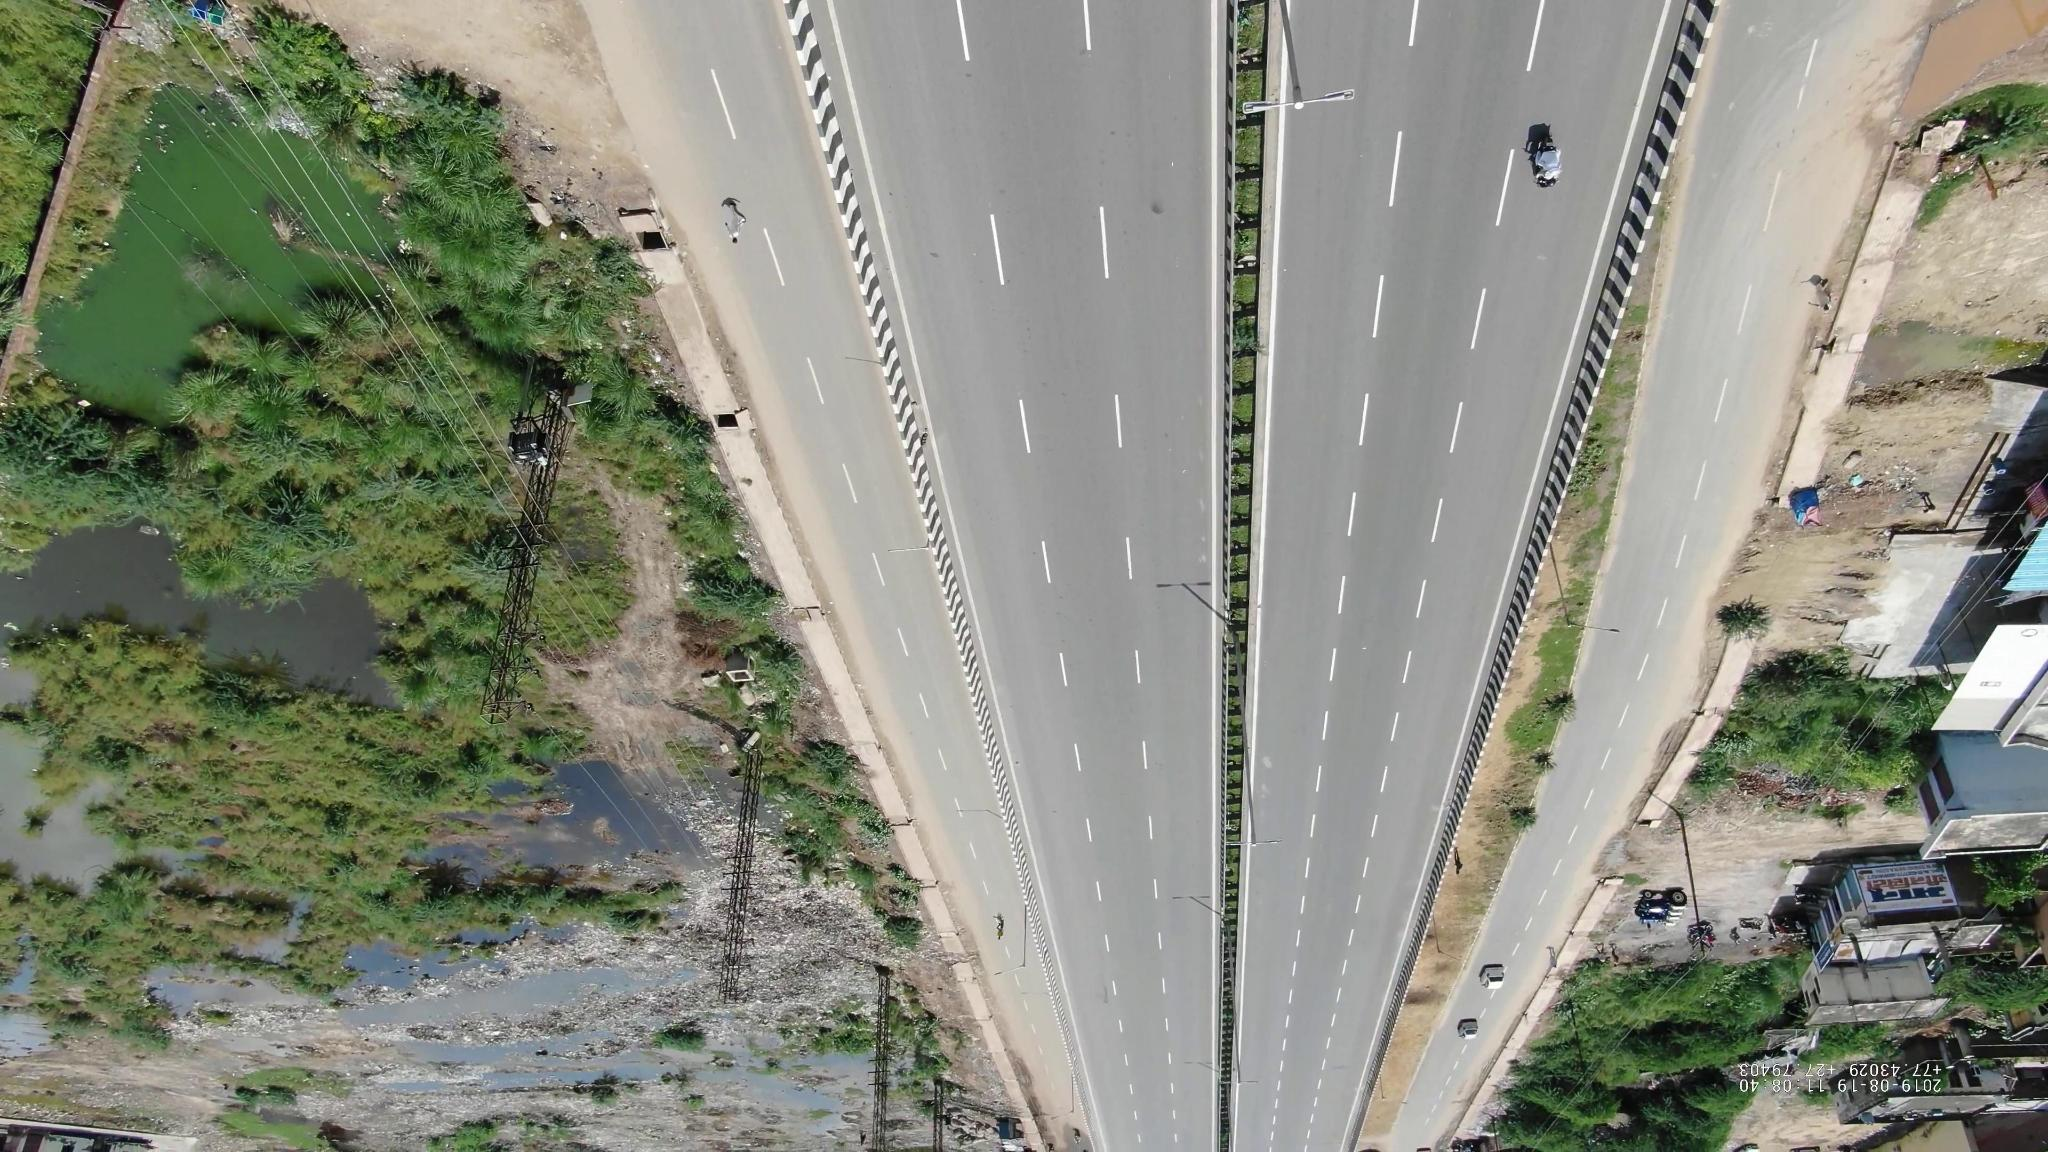Road_side_garbage: (706, 858, 888, 1018)
